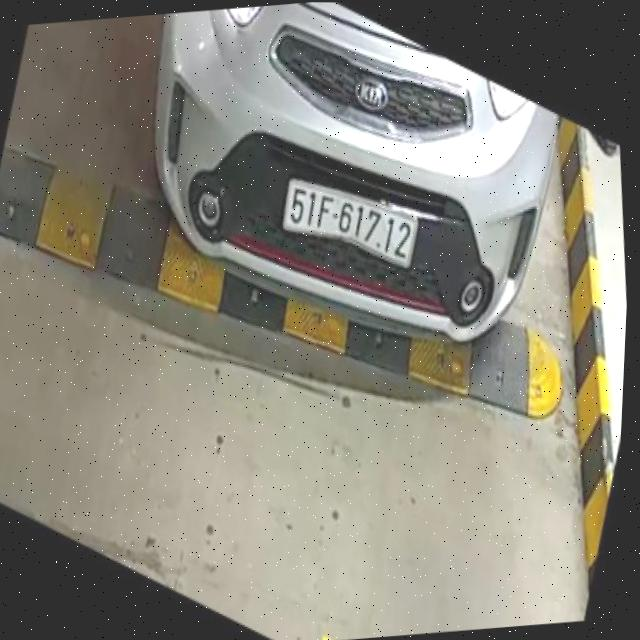car: (121, 1, 586, 377)
plate: (271, 160, 428, 282)
